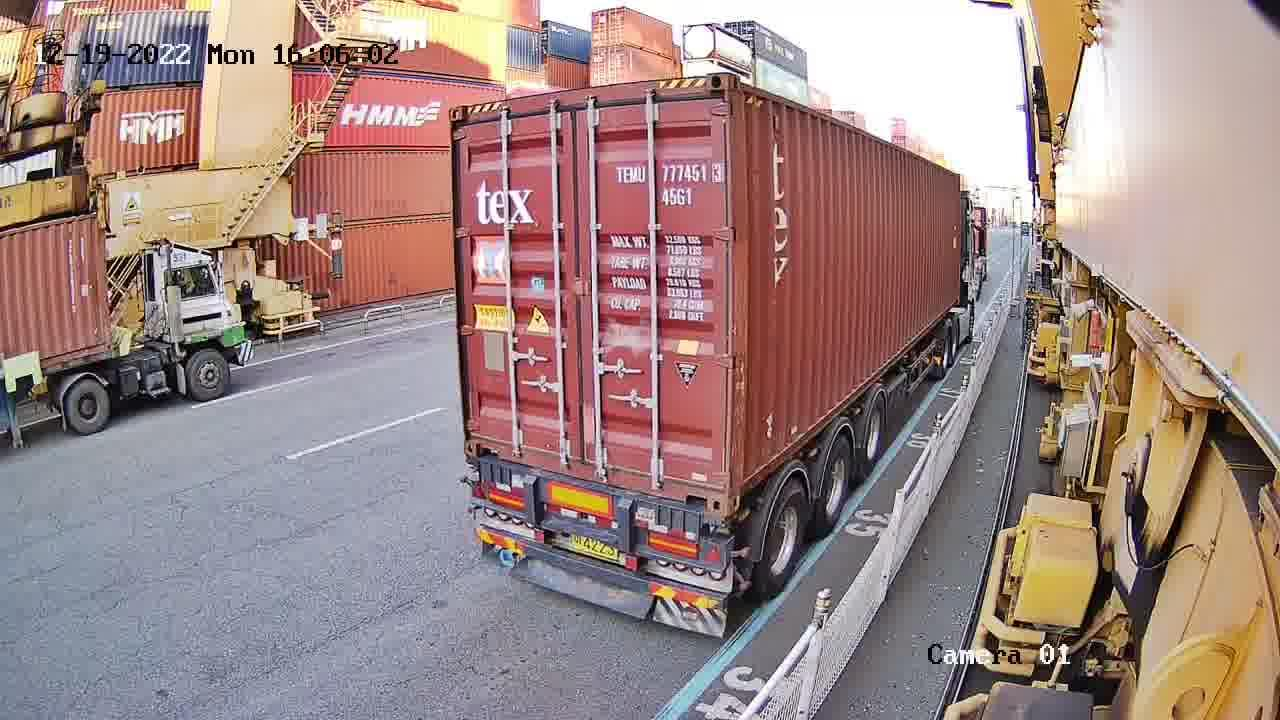Chassis: (466, 457, 723, 541)
Cone: (703, 517, 723, 534), (462, 458, 477, 473)
Hole_L: (462, 408, 505, 460)
Hole_R: (679, 453, 729, 516)
Tire: (759, 488, 808, 594), (820, 440, 850, 528), (862, 401, 885, 466)
